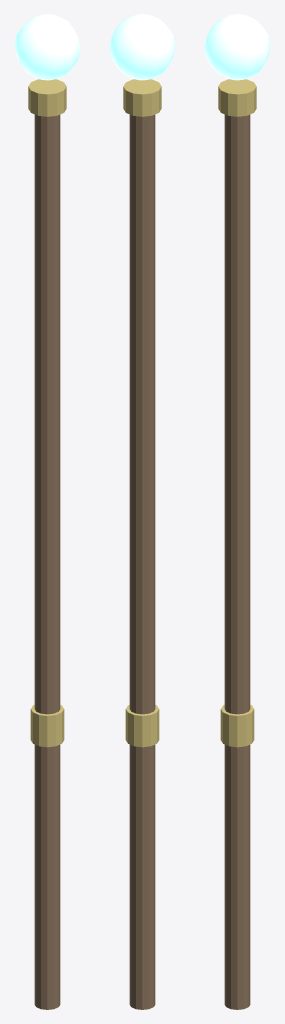
The model's file is staff.glb.
The picture shows the model from 3 angles, left to right: view 1: azimuth 30°, elevation 25°; view 2: azimuth 150°, elevation 25°; view 3: azimuth 330°, elevation 25°; orthographic projection.
Visible parts, largest first — view 1: staff; view 2: staff; view 3: staff.
Part boxes in pixels (<box>): staff: <box>14,14,80,1009</box>; staff: <box>109,14,175,1009</box>; staff: <box>204,14,270,1009</box>.
Size of the model in its own units: 0.054 by 0.882 by 0.0514.
